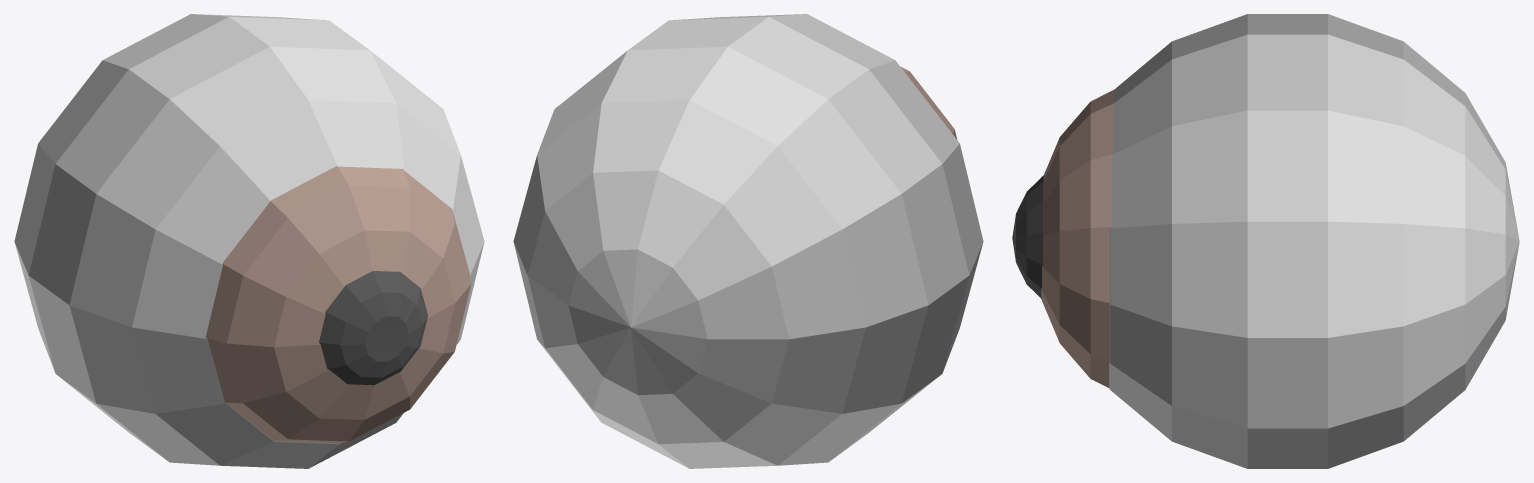
The model's file is eye-joined.dae.
3 views of the same model, side by side, from view 1: azimuth 30°, elevation 25°; view 2: azimuth 150°, elevation 25°; view 3: azimuth 270°, elevation 25° (orthographic).
Parts seen in each view (by area): view 1: mesh1137138639_002; view 2: mesh1137138639_002; view 3: mesh1137138639_002.
Boxes of the visible parts, x1,y1,x2,y2 form: mesh1137138639_002: (14, 14, 484, 468); mesh1137138639_002: (513, 14, 983, 468); mesh1137138639_002: (1012, 14, 1519, 468).
Size of the model in its own units: 0.1576 by 0.1751 by 0.1576.
